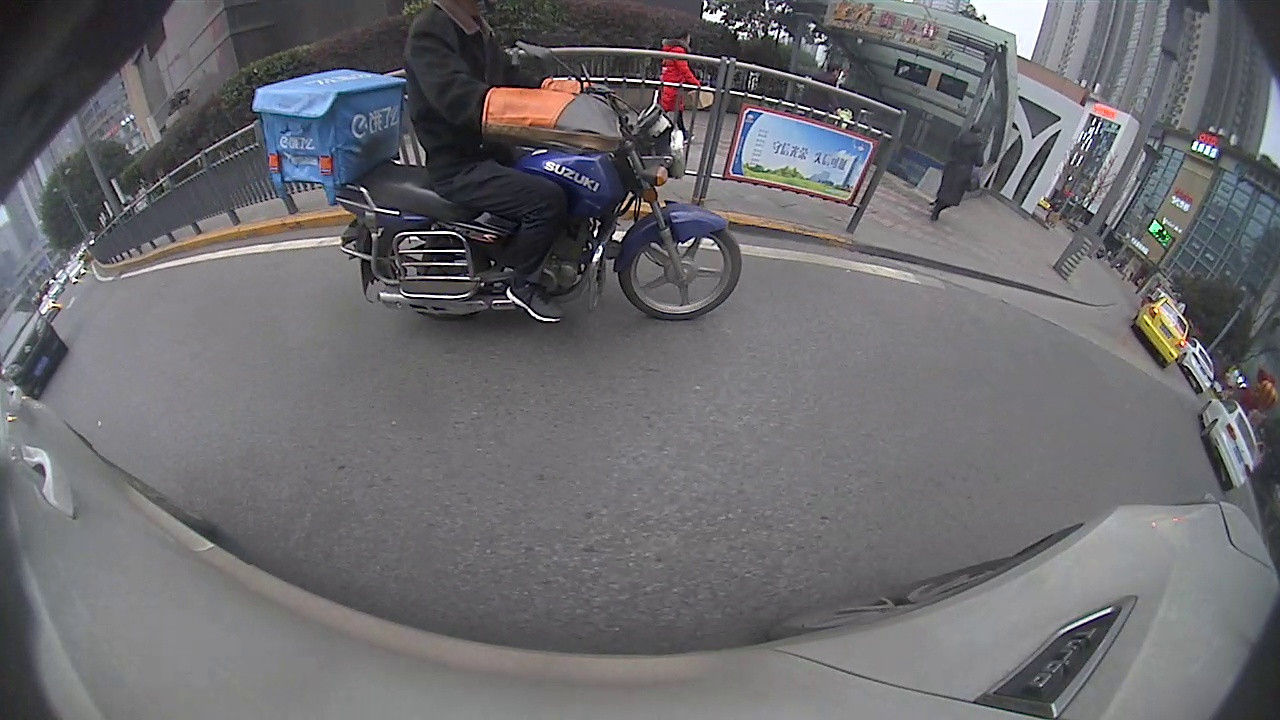car: (3, 290, 70, 399), (1198, 395, 1260, 493), (1130, 294, 1191, 368)
front: (617, 212, 743, 323)
person: (929, 119, 981, 223), (669, 28, 694, 143)
rider: (251, 1, 743, 324)
